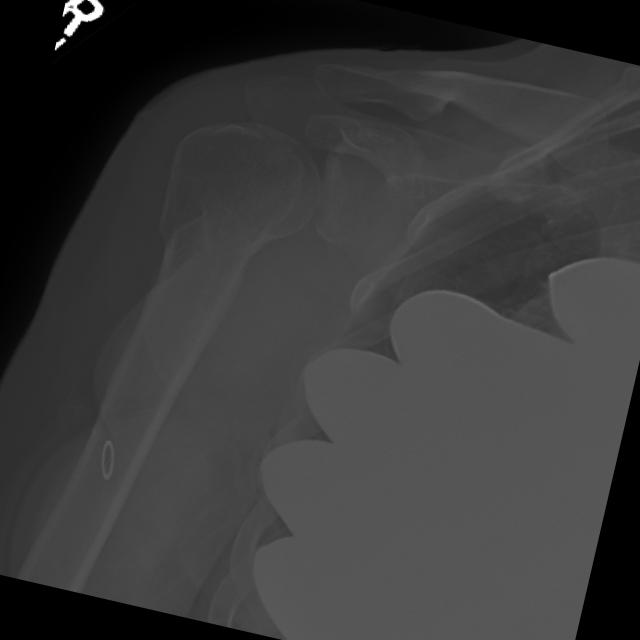shoulder fracture: (86, 155, 248, 318)
